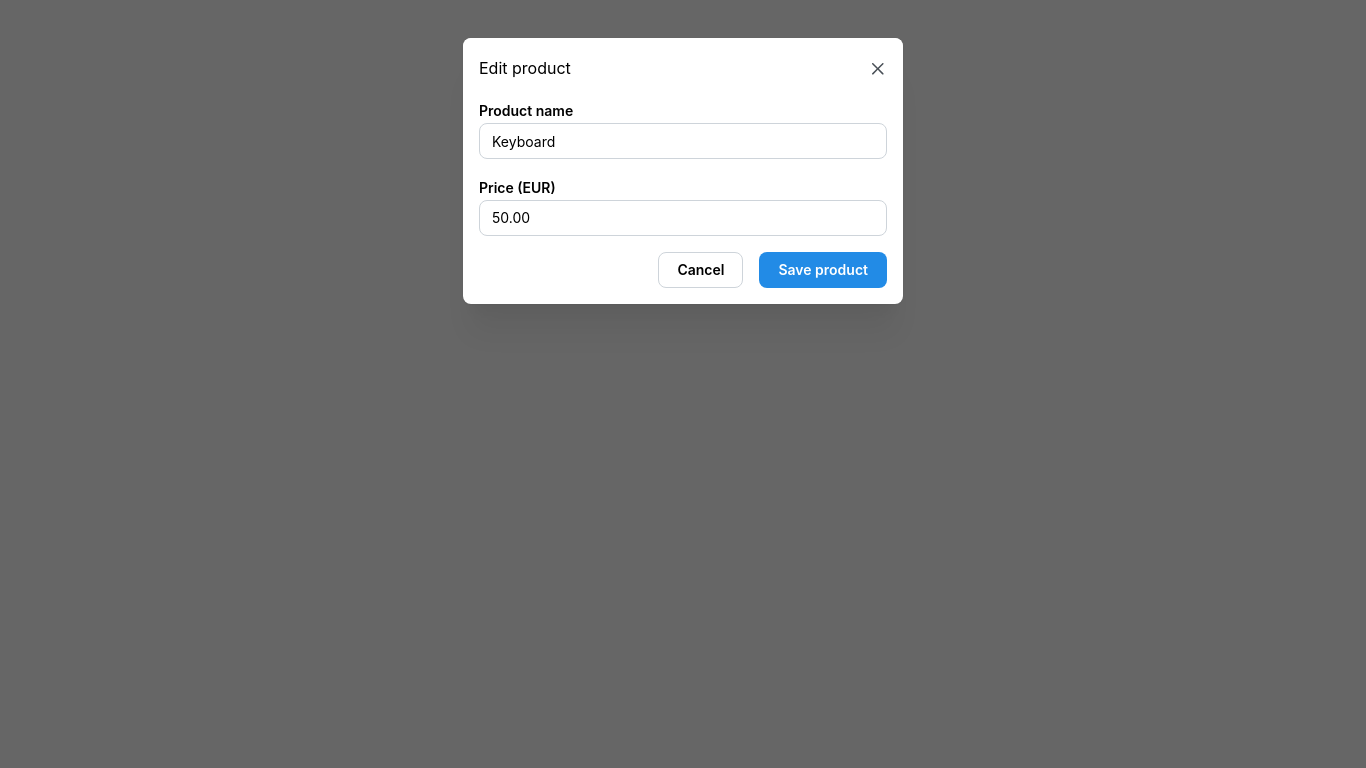
Test: product writes › retains edit form on server rejection without replay
Step 1. Replace the text in the field labelled "Product name" with "Edited name" → (683, 141), box [479,123,887,159]
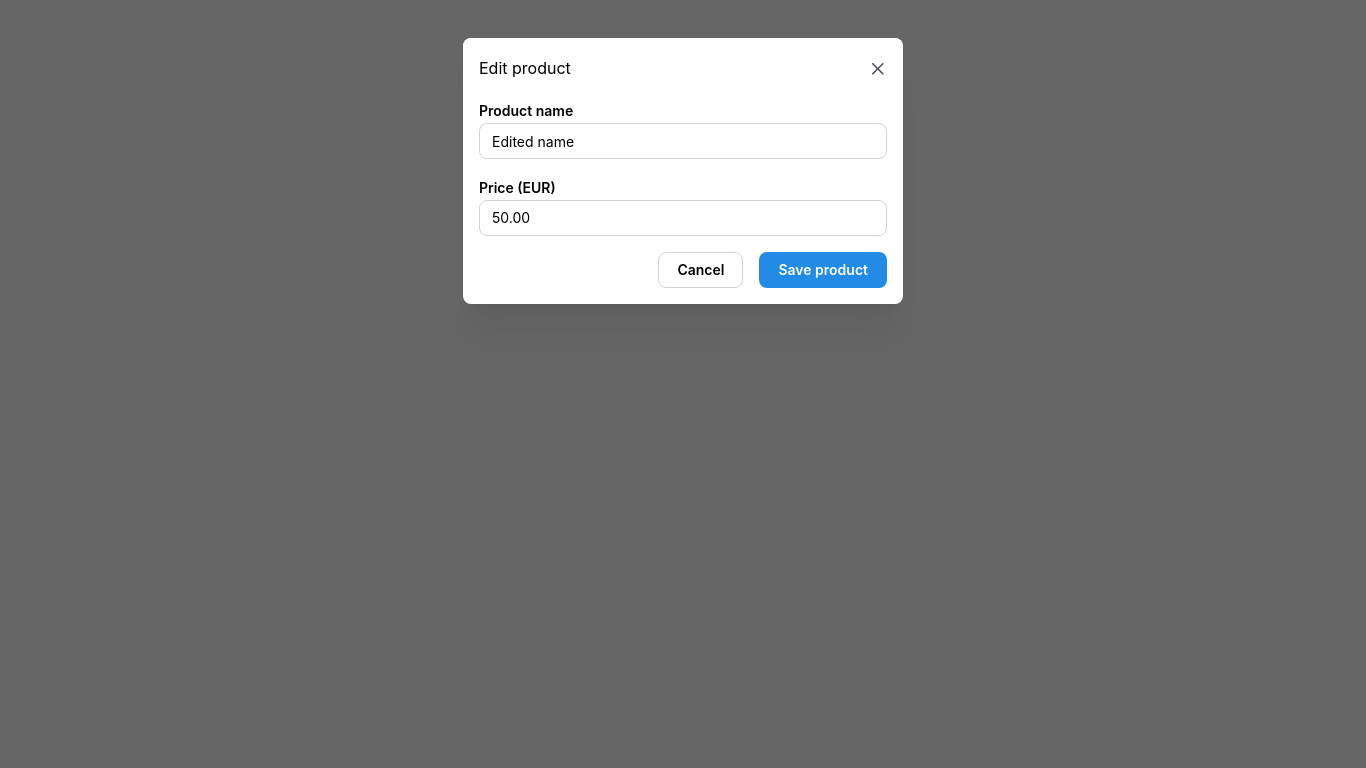
Step 2. Replace the text in the field labelled "Price (EUR)" with "15.25" → (683, 218), box [479,200,887,236]
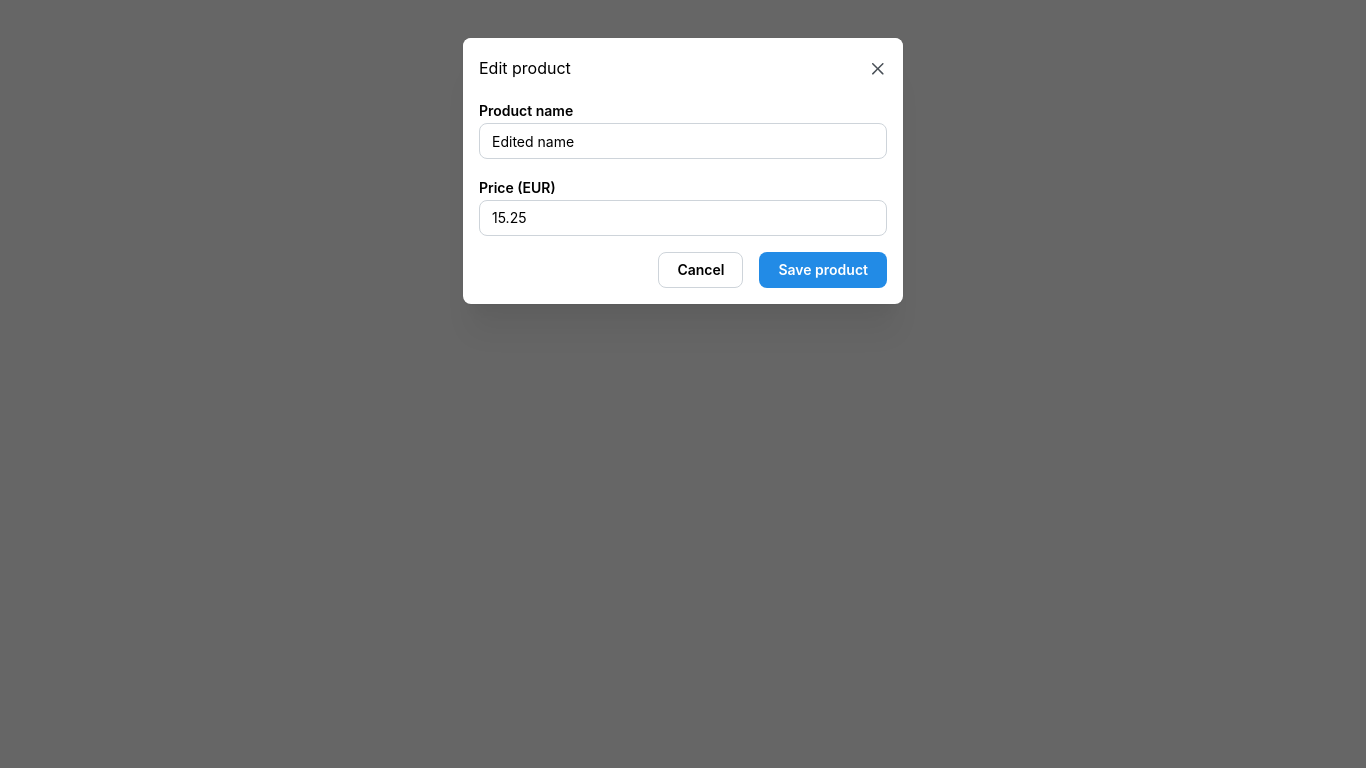
Step 3. Click the button "Save product" → click(823, 270), box [759,252,887,288]
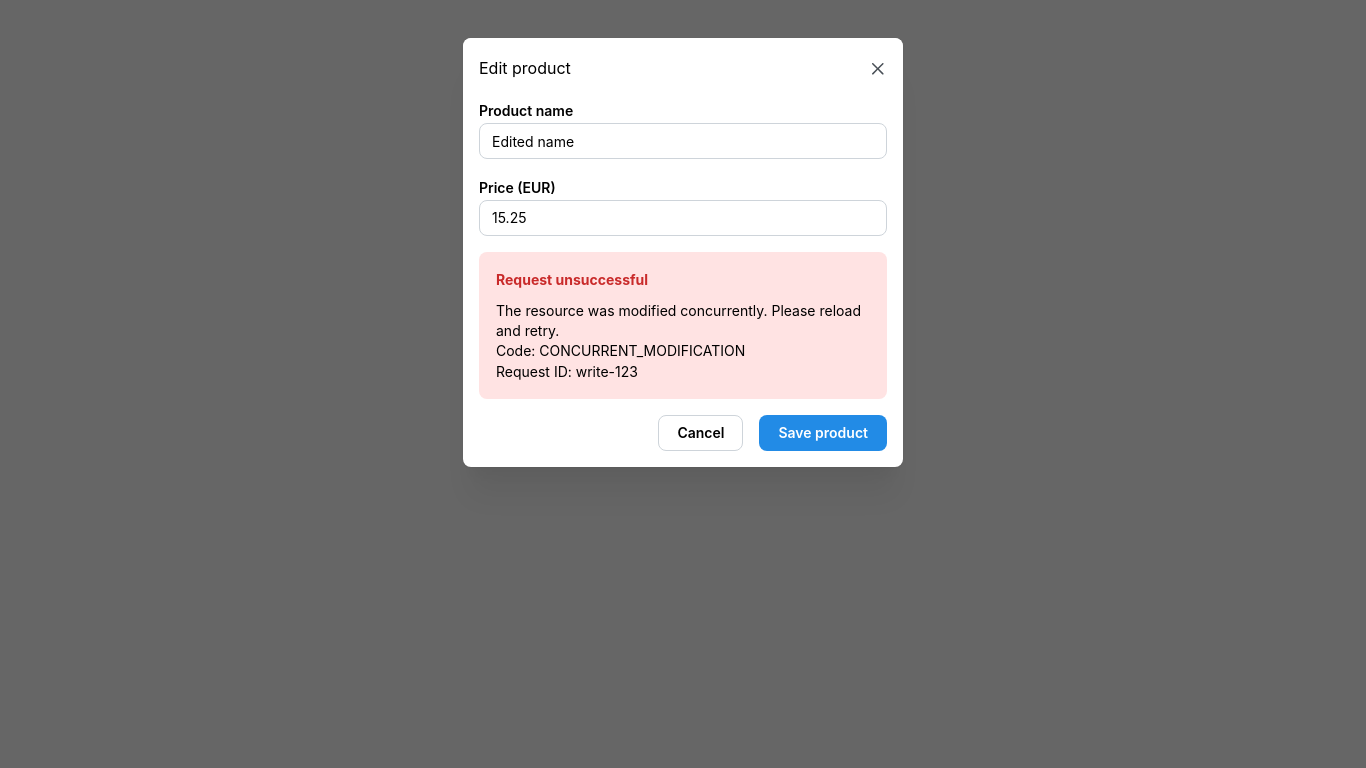
Check: the message shows "The resource was modified concurrently. Please reload and retry.", box [496,302,861,339]
Check: the message shows "CONCURRENT_MODIFICATION", box [539,342,745,359]
Check: the message shows "write-123", box [576,363,638,380]
